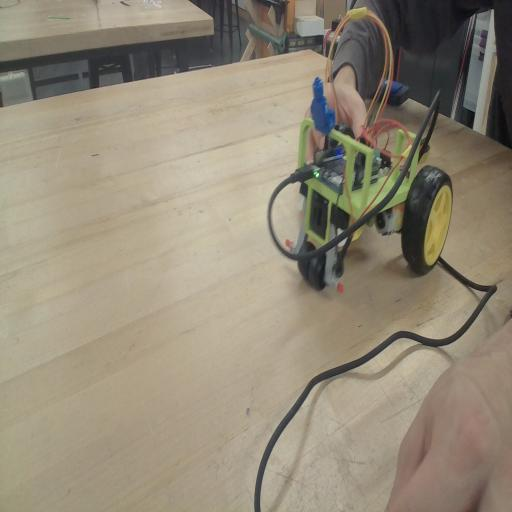blue LEGO minifig: (310, 73, 336, 134)
